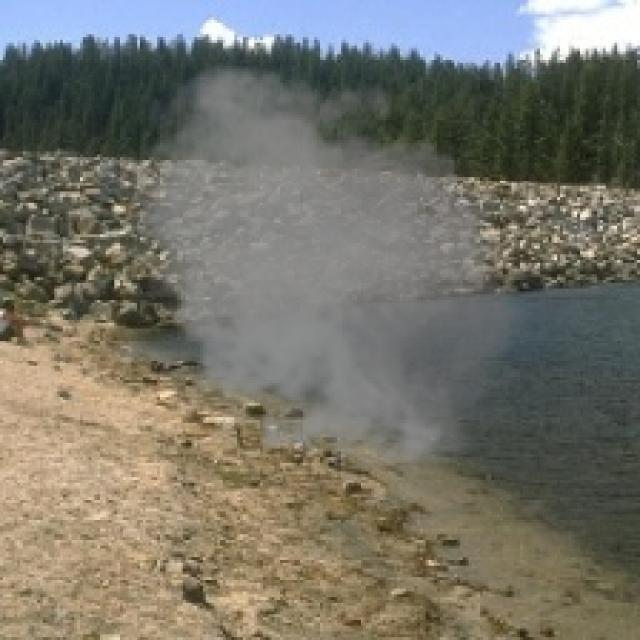Smoke: (120, 57, 546, 480)
